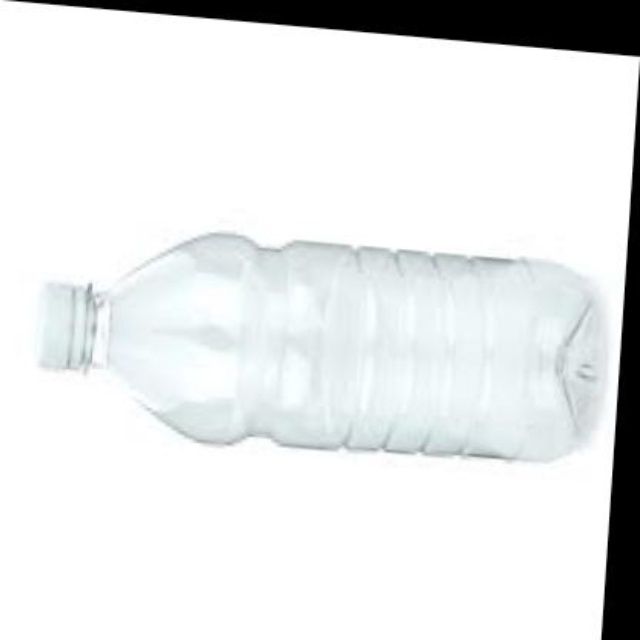trash: (40, 234, 598, 458)
